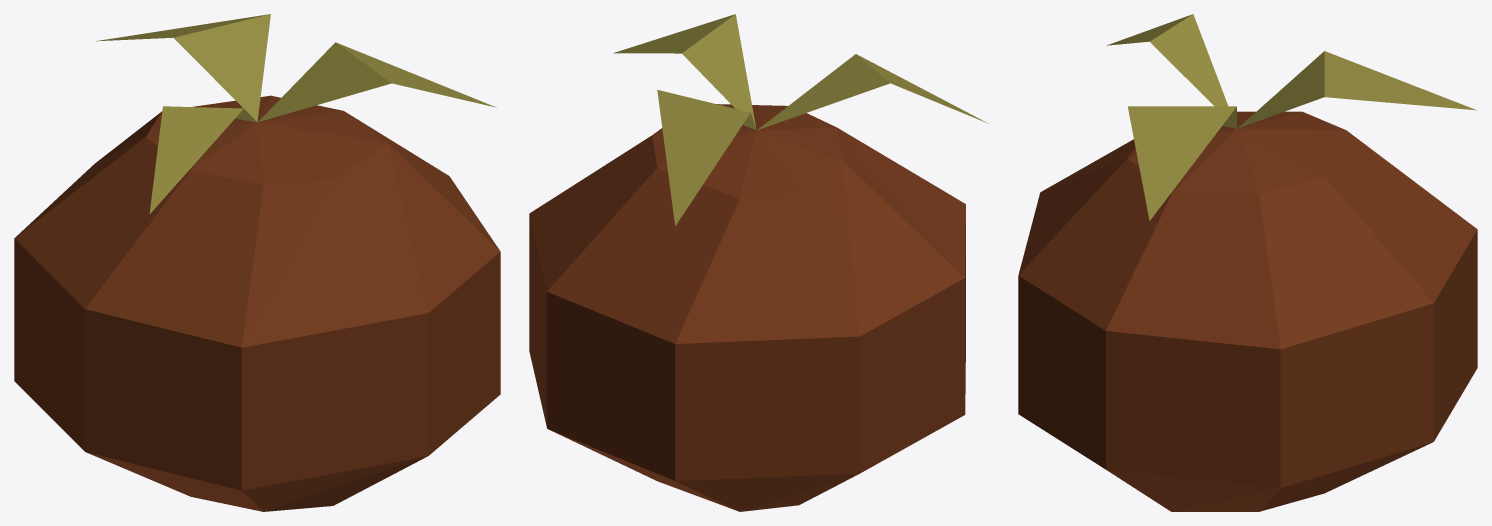
File: model_3208_spotanim.obj
3 views of the same model, side by side, from view 1: azimuth 30°, elevation 25°; view 2: azimuth 150°, elevation 25°; view 3: azimuth 270°, elevation 25° (orthographic). The views are drawn at different scales.
Visible parts, largest first — view 1: 3208; view 2: 3208; view 3: 3208.
Part boxes in pixels (<box>): 3208: <box>14,14,500,511</box>; 3208: <box>529,14,988,511</box>; 3208: <box>1018,14,1477,511</box>.
Bounding box in the file's own units: 21 × 20 × 21.
